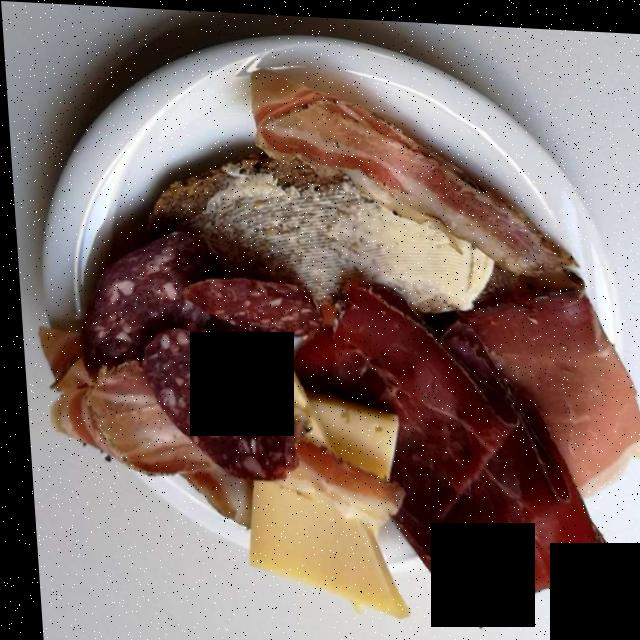bacon-frying: (34, 85, 572, 521)
bread-wholemeal: (141, 149, 511, 304)
butter: (194, 170, 492, 293)
dried-meat: (301, 295, 610, 617)
ham-raw: (466, 254, 640, 490)
salami: (76, 220, 317, 488)
